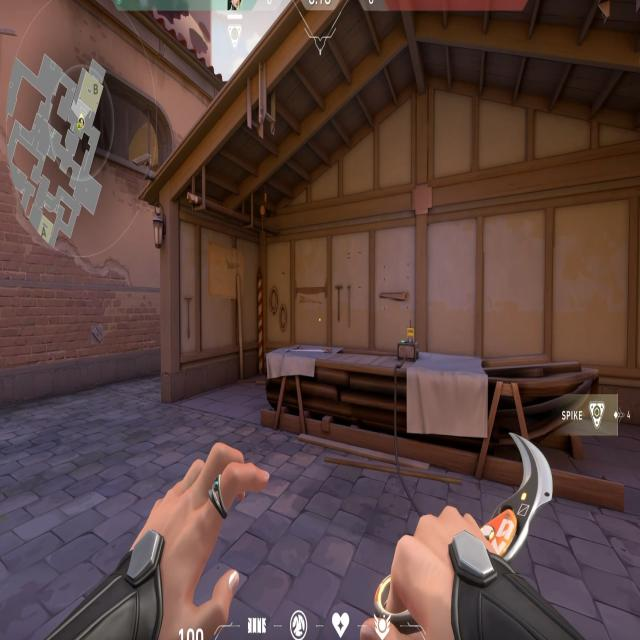B_Garage_Left: (145, 175, 363, 438)
